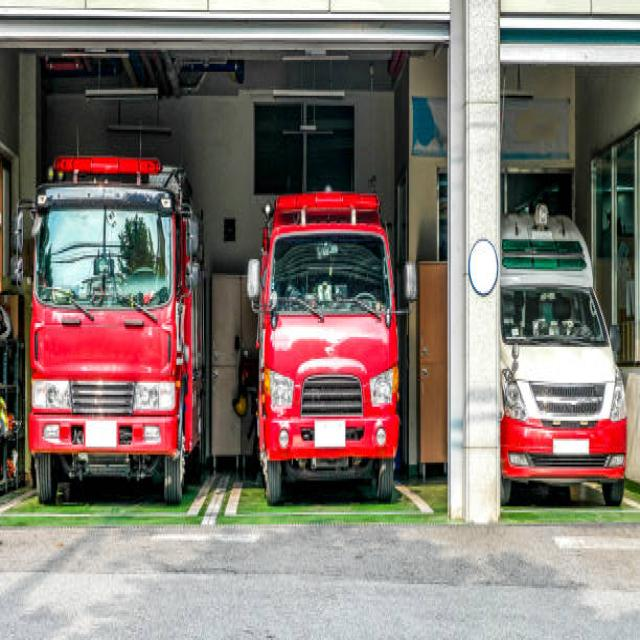emergency: (11, 155, 202, 504), (249, 195, 399, 504), (500, 205, 626, 505)
